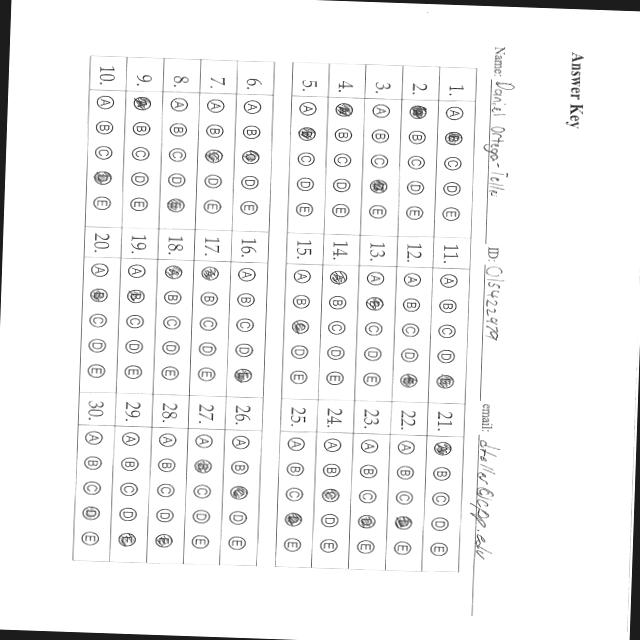EMAIL: (457, 434, 514, 618)
ID: (473, 266, 523, 404)
Name: (477, 78, 517, 246)
Q10_A_Unmarked: (95, 91, 122, 114)
Q10_B_Unmarked: (94, 116, 118, 137)
Q10_C_Unmarked: (91, 142, 118, 163)
Q10_D_Marked: (92, 169, 115, 188)
Q10_E_Unmarked: (90, 195, 116, 216)
Q11_A_Unmarked: (436, 272, 464, 292)
Q11_B_Unmarked: (436, 297, 462, 317)
Q11_C_Unmarked: (436, 322, 460, 342)
Q11_D_Unmarked: (434, 348, 458, 368)
Q11_E_Marked: (434, 372, 458, 394)
Q12_A_Unmarked: (398, 270, 426, 292)
Q12_B_Unmarked: (399, 296, 426, 316)
Q12_C_Unmarked: (398, 321, 423, 341)
Q12_D_Unmarked: (398, 346, 422, 367)
Q12_E_Marked: (396, 371, 422, 392)
Q13_A_Unmarked: (363, 268, 390, 290)
Q13_B_Marked: (363, 295, 389, 317)
Q13_C_Unmarked: (362, 320, 388, 341)
Q13_D_Unmarked: (361, 347, 388, 368)
Q13_E_Unmarked: (358, 372, 385, 391)
Q14_A_Marked: (325, 268, 352, 290), (132, 94, 158, 114)
Q14_B_Unmarked: (326, 292, 352, 316)
Q14_C_Unmarked: (326, 318, 348, 340)
Q14_D_Unmarked: (324, 344, 352, 366), (322, 368, 348, 391)
Q15_A_Unmarked: (290, 268, 316, 288)
Q15_B_Unmarked: (290, 292, 316, 314)
Q15_C_Marked: (287, 316, 314, 338)
Q15_D_Unmarked: (288, 342, 313, 366)
Q15_E_Unmarked: (286, 368, 312, 389)
Q16_A_Unmarked: (235, 264, 262, 288)
Q16_B_Unmarked: (233, 290, 260, 312)
Q16_C_Unmarked: (232, 315, 260, 338)
Q16_D_Unmarked: (231, 340, 261, 363)
Q16_E_Marked: (230, 364, 258, 389)
Q17_A_Marked: (198, 264, 222, 282)
Q17_B_Unmarked: (198, 288, 223, 310)
Q17_C_Marked: (203, 147, 229, 167)
Q17_C_Unmarked: (197, 314, 220, 334)
Q17_D_Unmarked: (195, 338, 224, 361)
Q17_E_Unmarked: (193, 365, 219, 386)
Q18_A_Marked: (160, 263, 188, 285)
Q18_B_Unmarked: (160, 286, 186, 308)
Q18_C_Unmarked: (158, 312, 186, 336)
Q18_D_Unmarked: (158, 337, 184, 360)
Q18_E_Unmarked: (157, 364, 184, 386)
Q19_A_Unmarked: (124, 260, 152, 284)
Q19_B_Marked: (122, 284, 149, 308)
Q19_C_Unmarked: (123, 312, 149, 333)
Q19_D_Marked: (367, 176, 390, 199)
Q19_D_Unmarked: (121, 338, 147, 357)
Q19_E_Unmarked: (121, 362, 146, 383)
Q1_A_Unmarked: (442, 104, 469, 126)
Q1_B_Marked: (441, 129, 469, 151)
Q1_C_Unmarked: (440, 153, 468, 175)
Q1_D_Unmarked: (440, 178, 466, 200)
Q1_E_Unmarked: (438, 205, 466, 228)
Q20_A_Unmarked: (86, 260, 114, 282)
Q20_B_Marked: (84, 284, 112, 305)
Q20_C_Unmarked: (82, 307, 110, 331)
Q20_D_Unmarked: (82, 335, 110, 354)
Q20_E_Unmarked: (84, 361, 110, 384)
Q21_A_Marked: (424, 438, 456, 464)
Q21_B_Unmarked: (426, 464, 454, 486)
Q21_C_Unmarked: (424, 489, 453, 512)
Q21_D_Unmarked: (425, 514, 450, 535)
Q21_E_Unmarked: (422, 540, 452, 562)
Q22_A_Unmarked: (392, 438, 416, 459)
Q22_B_Unmarked: (390, 463, 416, 484)
Q22_C_Unmarked: (390, 489, 415, 509)
Q22_D_Marked: (388, 512, 416, 534)
Q22_E_Unmarked: (386, 538, 416, 562)
Q23_A_Unmarked: (353, 436, 385, 459)
Q23_B_Unmarked: (352, 459, 385, 484)
Q23_C_Unmarked: (352, 486, 380, 509)
Q23_D_Marked: (350, 510, 383, 534)
Q23_E_Unmarked: (349, 538, 380, 560)
Q24_A_Unmarked: (316, 436, 347, 458)
Q24_B_Unmarked: (316, 462, 346, 483)
Q24_C_Marked: (314, 483, 346, 508)
Q24_D_Unmarked: (314, 510, 343, 534)
Q24_E_Unmarked: (312, 536, 342, 560)
Q25_A_Unmarked: (278, 433, 310, 458)
Q25_B_Unmarked: (278, 459, 310, 482)
Q25_C_Unmarked: (278, 482, 309, 506)
Q25_D_Marked: (278, 510, 308, 532)
Q25_E_Unmarked: (274, 536, 308, 560)
Q26_A_Unmarked: (224, 434, 253, 454)
Q26_B_Unmarked: (224, 458, 254, 479)
Q26_C_Marked: (222, 480, 254, 504)
Q26_D_Unmarked: (220, 509, 253, 532)
Q26_E_Unmarked: (220, 532, 254, 559)
Q27_A_Unmarked: (189, 432, 217, 453)
Q27_B_Marked: (187, 458, 216, 478)
Q27_C_Unmarked: (184, 482, 213, 504)
Q27_D_Unmarked: (184, 505, 216, 528)
Q27_E_Unmarked: (184, 532, 212, 556)
Q28_A_Unmarked: (148, 429, 182, 454)
Q28_B_Unmarked: (152, 455, 178, 477)
Q28_C_Unmarked: (150, 480, 176, 500)
Q28_D_Unmarked: (149, 506, 177, 530)
Q28_E_Marked: (148, 532, 177, 554)
Q29_A_Unmarked: (114, 428, 145, 452)
Q29_B_Unmarked: (114, 452, 142, 476)
Q29_C_Unmarked: (113, 479, 142, 500)
Q29_D_Unmarked: (112, 504, 142, 524)
Q29_E_Marked: (110, 530, 140, 553)
Q2_A_Marked: (405, 104, 433, 125)
Q2_B_Unmarked: (403, 126, 430, 148)
Q2_C_Unmarked: (402, 150, 432, 174)
Q2_D_Unmarked: (401, 178, 432, 201)
Q2_E_Unmarked: (401, 202, 429, 226)
Q30_A_Unmarked: (78, 429, 107, 451)
Q30_B_Unmarked: (76, 452, 108, 474)
Q30_C_Unmarked: (76, 478, 106, 498)
Q30_D_Marked: (74, 500, 106, 526)
Q30_E_Unmarked: (74, 529, 102, 549)
Q3_B_Unmarked: (369, 126, 394, 148)
Q3_C_Unmarked: (367, 151, 394, 172)
Q3_E_Unmarked: (367, 203, 390, 223)
Q4_A_Marked: (332, 100, 360, 122)
Q4_A_Unmarked: (370, 100, 396, 122)
Q4_B_Unmarked: (332, 125, 358, 146)
Q4_C_Unmarked: (330, 151, 360, 173)
Q4_D_Unmarked: (330, 175, 358, 198)
Q4_E_Unmarked: (330, 202, 357, 222)
Q5_A_Unmarked: (298, 100, 322, 124)
Q5_B_Marked: (297, 124, 321, 146)
Q5_C_Unmarked: (294, 150, 320, 169)
Q5_D_Unmarked: (292, 173, 318, 196)
Q5_E_Unmarked: (291, 199, 320, 224), (200, 197, 228, 219)
Q6_A_Unmarked: (238, 97, 268, 118)
Q6_B_Unmarked: (238, 121, 266, 142)
Q6_C_Marked: (238, 147, 268, 168)
Q6_D_Unmarked: (238, 173, 266, 194)
Q6_E_Unmarked: (237, 197, 263, 220)
Q7_A_Unmarked: (206, 98, 230, 117)
Q7_B_Unmarked: (205, 122, 228, 142)
Q7_D_Unmarked: (202, 172, 228, 192)
Q8_A_Unmarked: (167, 94, 197, 116)
Q8_B_Unmarked: (165, 120, 196, 140)
Q8_C_Unmarked: (165, 146, 192, 166)
Q8_D_Unmarked: (166, 172, 192, 195)
Q8_E_Marked: (164, 198, 192, 220)
Q9_B_Unmarked: (132, 118, 156, 140)
Q9_C_Unmarked: (130, 146, 155, 166)
Q9_D_Unmarked: (130, 170, 154, 190)
Q9_E_Unmarked: (127, 194, 154, 218)
